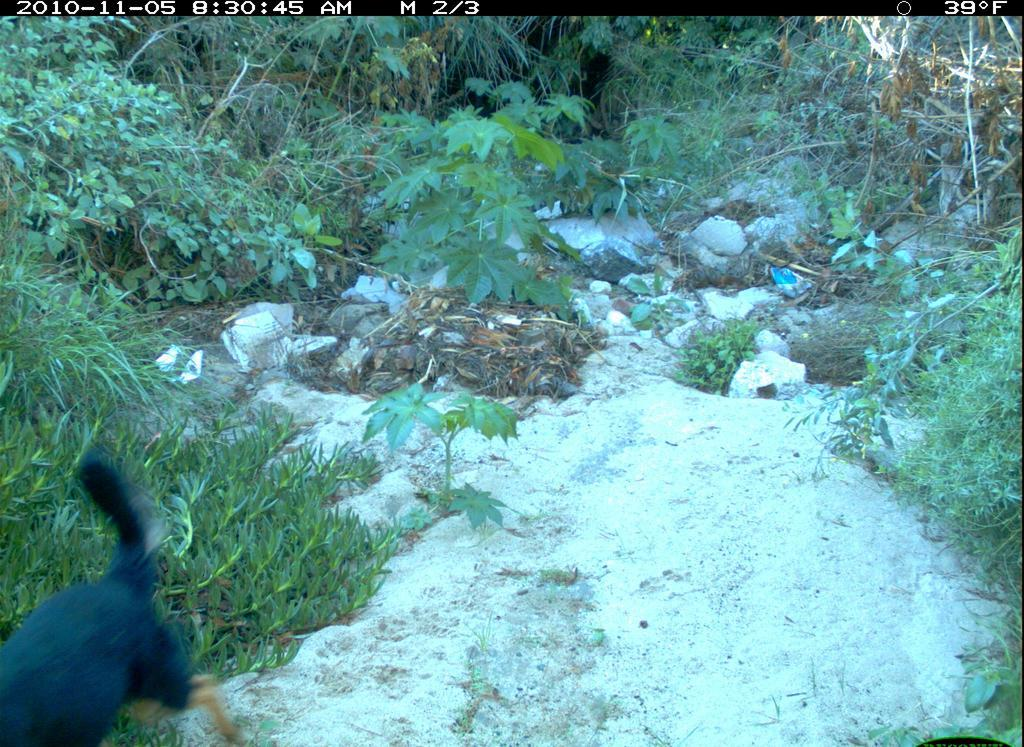dog: (2, 445, 249, 745)
